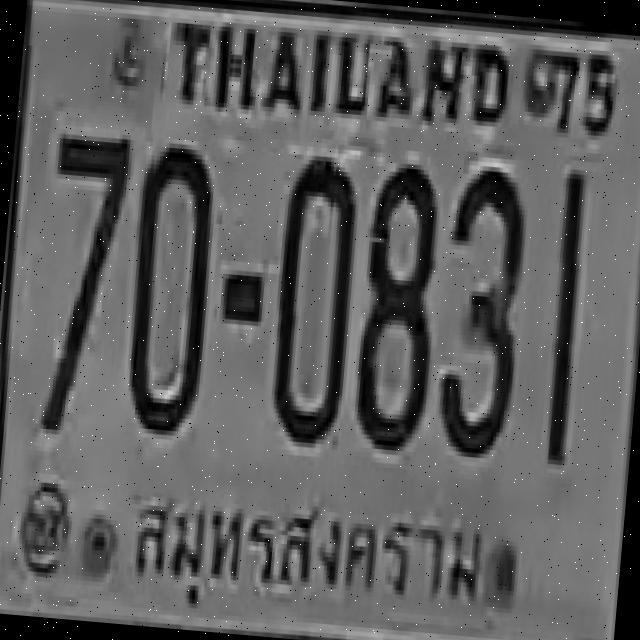0: (119, 138, 220, 435), (263, 151, 361, 447)
1: (538, 165, 588, 462)
3: (432, 165, 530, 458)
7: (31, 126, 130, 436), (40, 126, 131, 338)
8: (350, 158, 445, 450)
SamutSongkhram: (113, 475, 495, 640)
